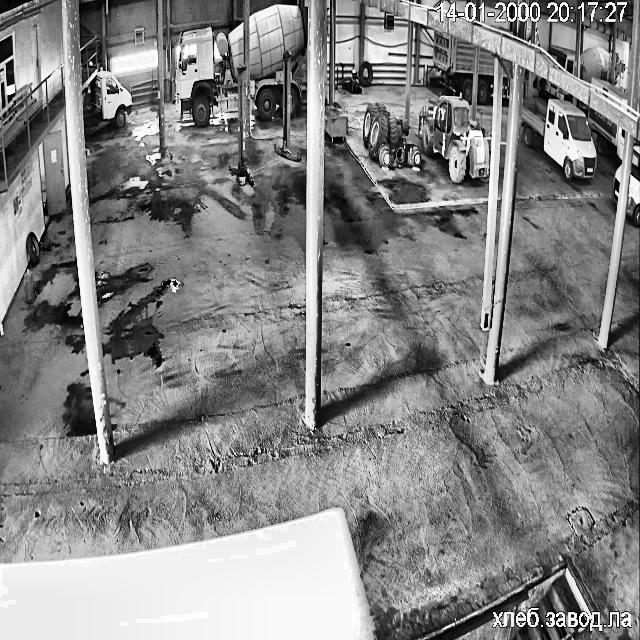class6: (418, 96, 489, 181), (362, 103, 420, 165)
class7: (176, 25, 244, 124), (248, 4, 306, 118), (521, 100, 596, 180), (433, 30, 473, 101), (91, 69, 132, 126), (588, 108, 621, 153), (626, 142, 640, 227), (580, 46, 611, 83), (477, 48, 494, 102), (592, 77, 627, 100), (548, 46, 574, 73), (536, 77, 567, 97), (613, 164, 620, 200), (500, 78, 508, 97), (616, 57, 622, 76), (507, 62, 510, 69)
truck: (229, 65, 253, 185), (274, 52, 300, 161)
